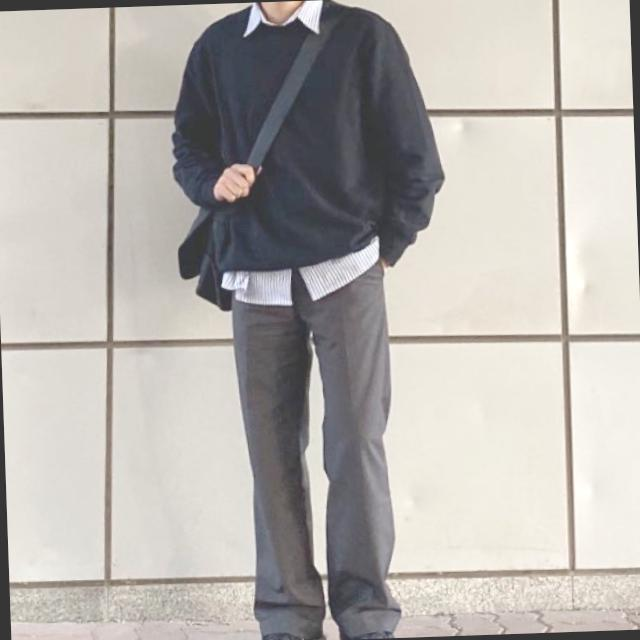denimpants: (232, 256, 408, 640)
mtm: (161, 0, 444, 279)
